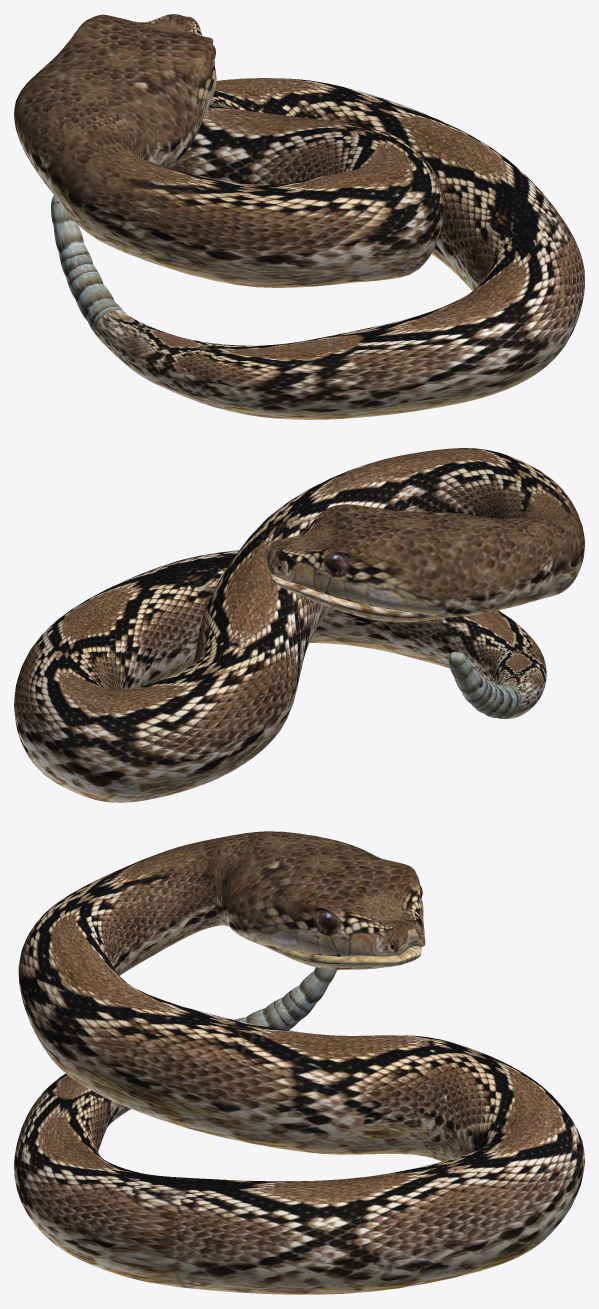
The model's file is ular-tanah.glb.
The picture shows the model from 3 angles, top to bottom: view 1: azimuth 30°, elevation 25°; view 2: azimuth 150°, elevation 25°; view 3: azimuth 270°, elevation 25°; orthographic projection. The views are drawn at different scales.
Parts seen in each view (by area): view 1: 10050_RattleSnake_v4_L3; view 2: 10050_RattleSnake_v4_L3; view 3: 10050_RattleSnake_v4_L3.
Boxes of the visible parts, x1=… form: 10050_RattleSnake_v4_L3: x1=14, y1=14, x2=584, y2=419; 10050_RattleSnake_v4_L3: x1=14, y1=448, x2=584, y2=802; 10050_RattleSnake_v4_L3: x1=14, y1=831, x2=584, y2=1294.
Bounding box in the file's own units: 7.37 × 3.96 × 7.58.
Materials: 1 (1 with a texture image).
